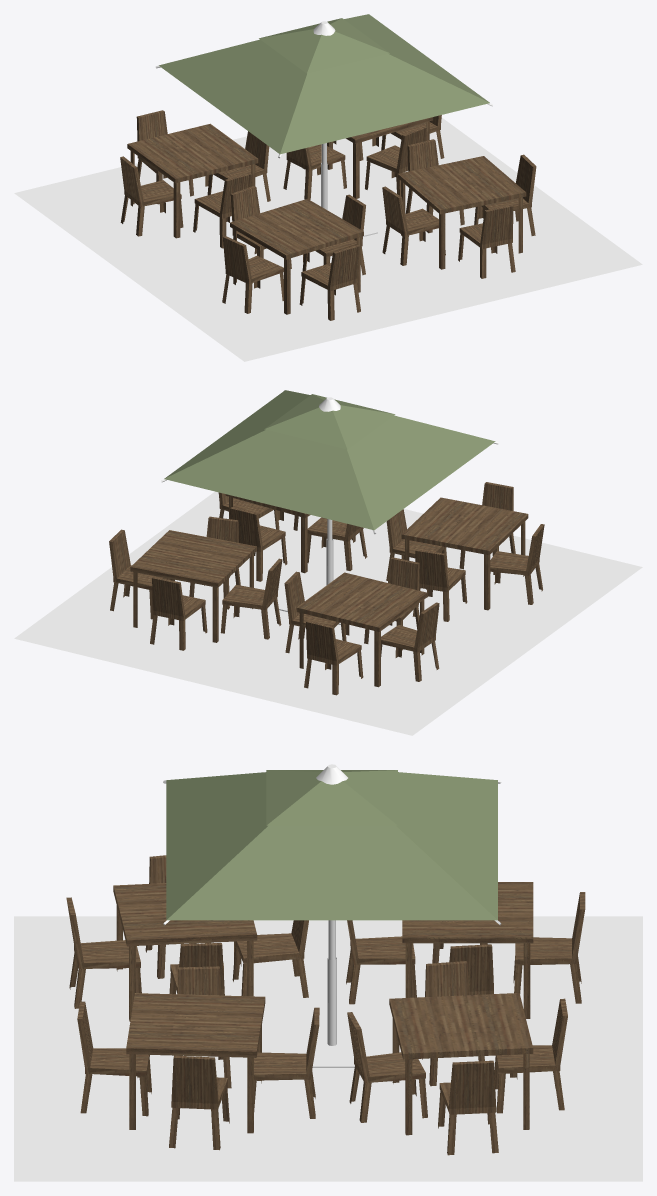
The picture shows the model from 3 angles, top to bottom: view 1: azimuth 30°, elevation 25°; view 2: azimuth 150°, elevation 25°; view 3: azimuth 270°, elevation 25°; orthographic projection. The views are drawn at different scales.
Parts seen in each view (by area): view 1: Object_3, Object_6, Object_2, Object_5; view 2: Object_3, Object_6, Object_2, Object_5; view 3: Object_3, Object_6, Object_2, Object_5, Object_4.
Part boxes in pixels (box(x1,y1,x2,y2)): Object_3: box(14, 117, 642, 361); Object_6: box(120, 110, 536, 320); Object_2: box(159, 14, 489, 154); Object_5: box(321, 162, 377, 236); Object_3: box(14, 491, 642, 735); Object_6: box(109, 482, 544, 695); Object_2: box(164, 390, 495, 530); Object_5: box(278, 538, 340, 624); Object_3: box(14, 916, 642, 1181); Object_6: box(66, 855, 585, 1155); Object_2: box(166, 770, 497, 920); Object_5: box(278, 957, 385, 1067); Object_4: box(163, 764, 501, 960).
Bounding box in the file's own units: 24 × 11.85 × 24.04.
Materials: 5 (1 with a texture image).
